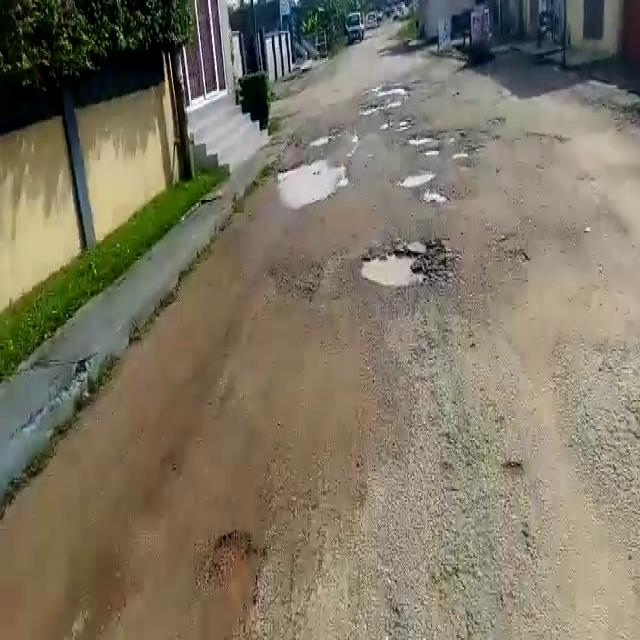Pothole: (203, 528, 267, 634), (358, 242, 439, 290), (274, 159, 348, 209), (492, 234, 528, 266), (394, 168, 436, 188), (409, 132, 443, 145), (421, 189, 447, 205)
